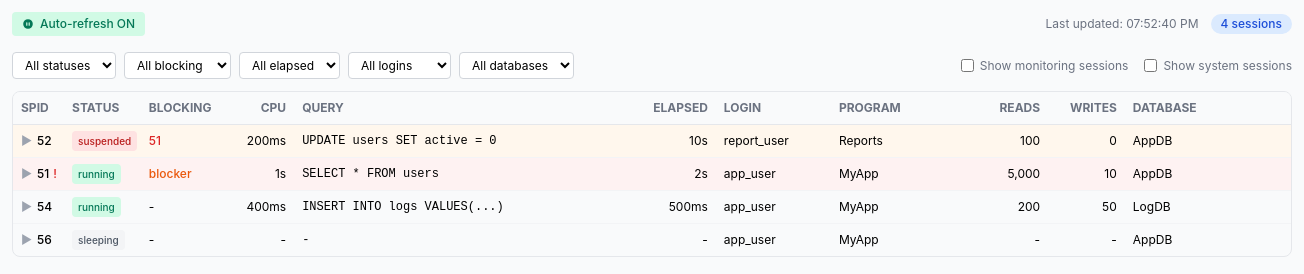
Test: CurrentActivity › filters by blocking (is blocker)
The image size is (1304, 274).
Select "Is blocker" in the dropdown with test id "filter-blocking" at point(178, 66), box [124, 52, 231, 79]
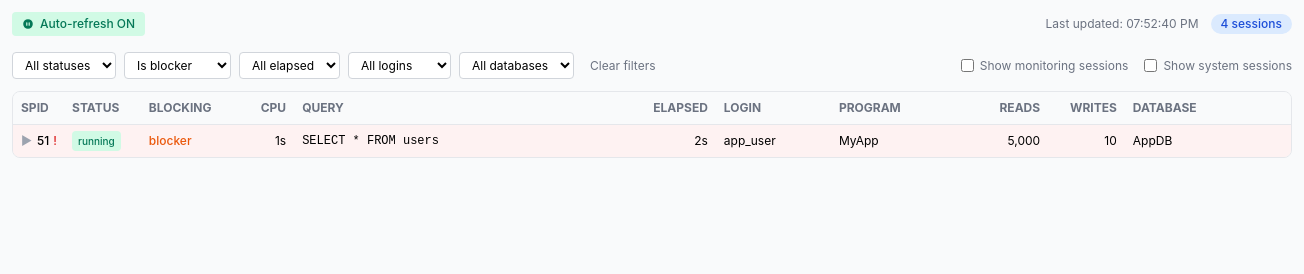
Check: the row with test id "session-row-51" is shown, box [13, 124, 1291, 157]
Check: the row with test id "session-row-52" is gone
